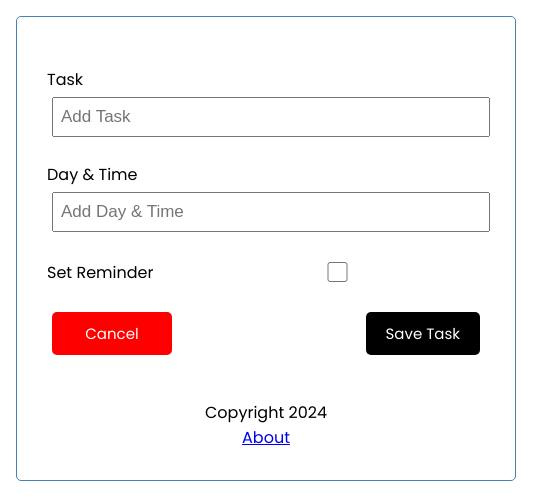
Test case: Task Tracker test › Clicks the about link and shows certain information and the route back to homepage
The image size is (533, 498).
Click the link with test id "about-link".
click(266, 438)  # box [242,426,290,449]
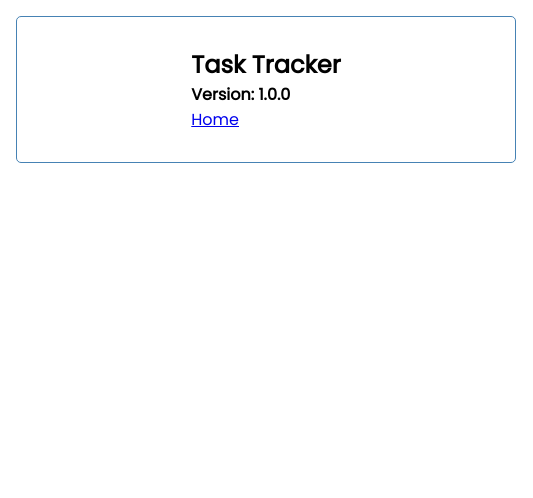
Expected: the heading "Task Tracker" is shown, [191,47,341,82]
Expected: the heading "Version: 1.0.0" is shown, [191,83,290,106]
